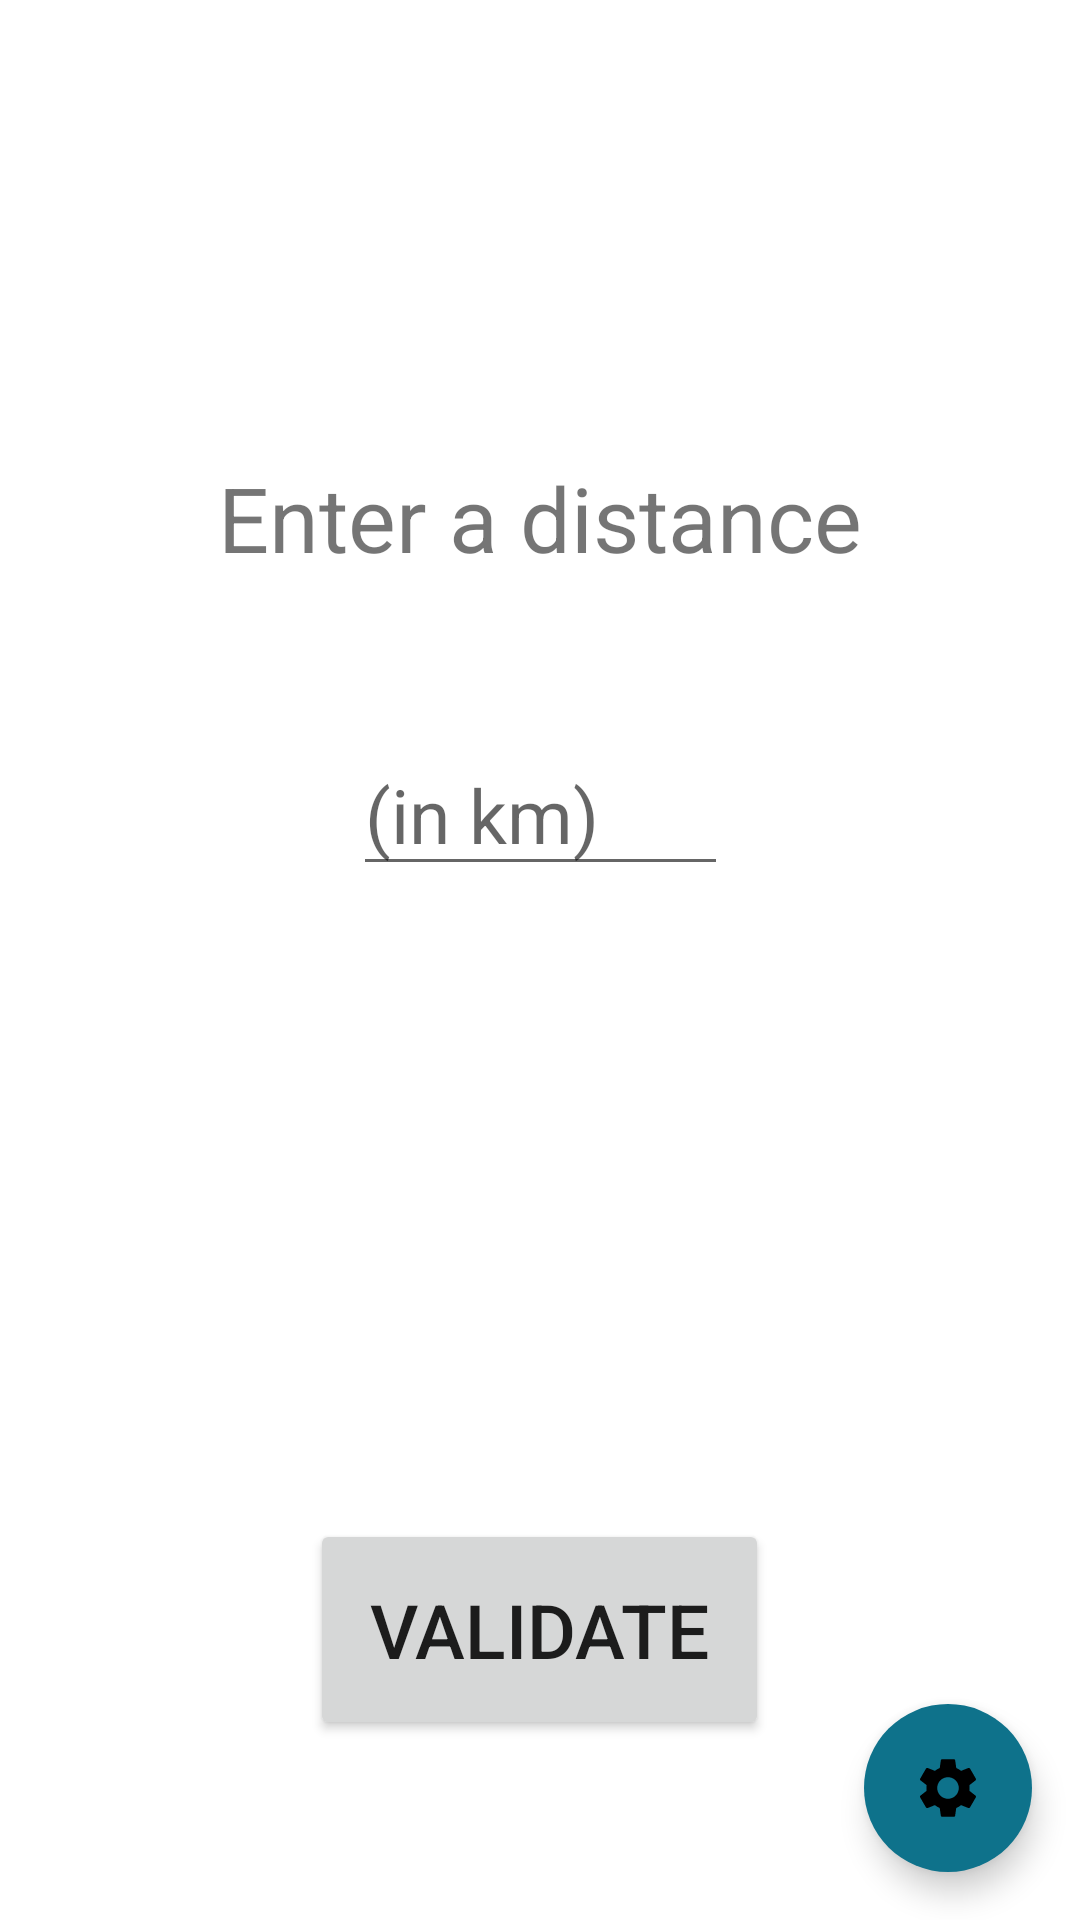

Screen size 1080px x 1920px. Icon name, then its box in pixels as (x1, y1, x2, y2):
settings: (864, 1704, 1032, 1872)
